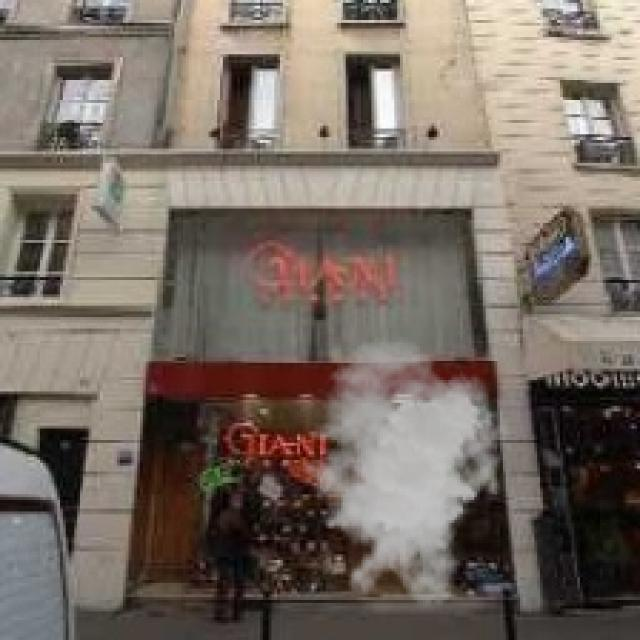smoke: (288, 337, 508, 609)
